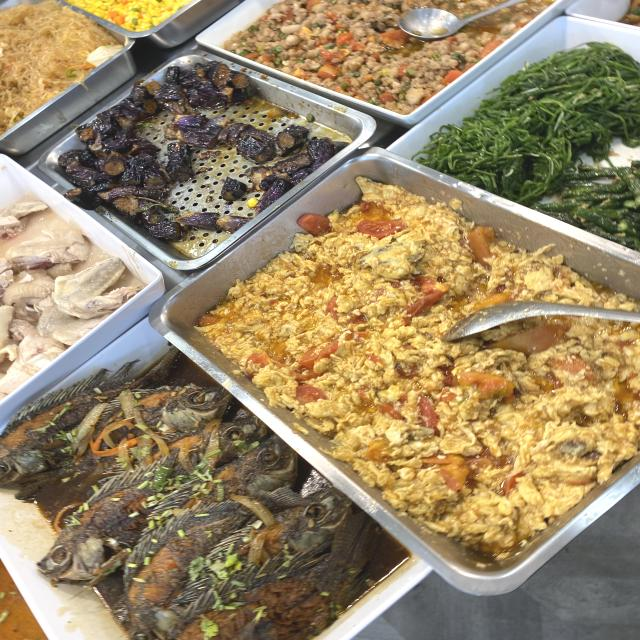Scramble Egg with Tomatoes: (250, 265, 436, 387)
